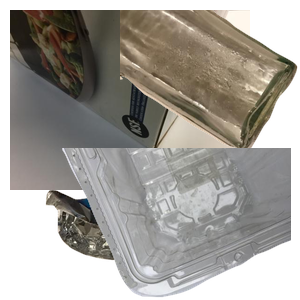cardboard: (10, 10, 250, 190)
glass: (120, 10, 300, 153)
plastic: (60, 148, 300, 300)
trash: (43, 187, 234, 300)
